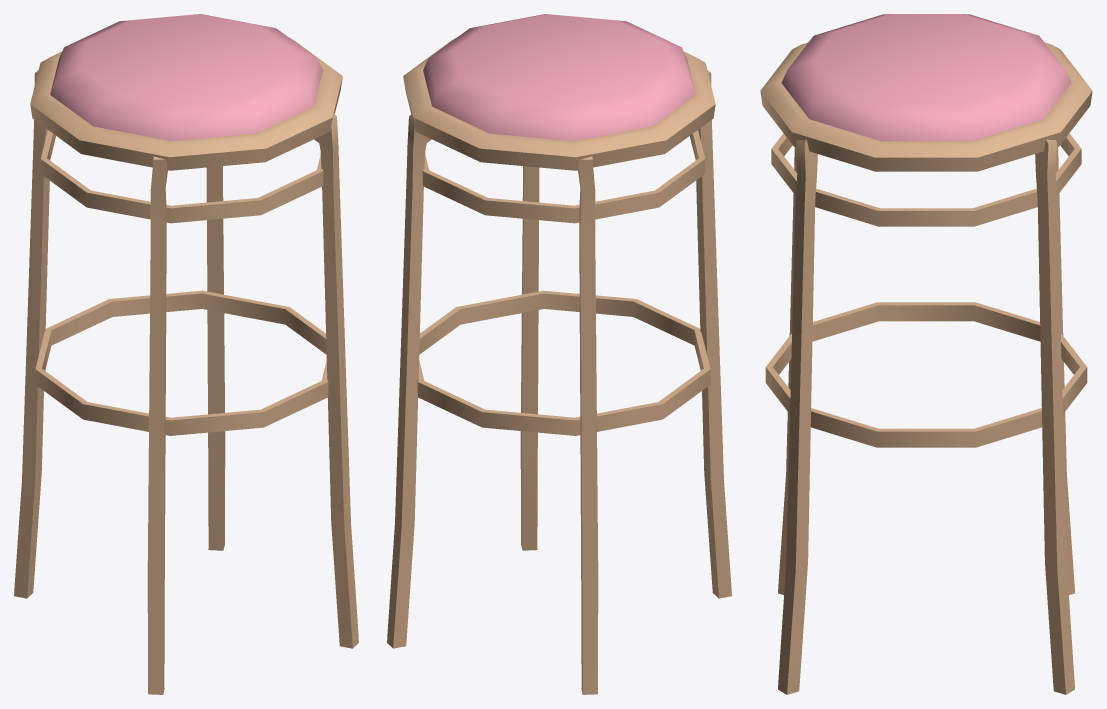
File: stool.glb
The picture shows the model from 3 angles, left to right: view 1: azimuth 30°, elevation 25°; view 2: azimuth 150°, elevation 25°; view 3: azimuth 270°, elevation 25°; orthographic projection. The views are drawn at different scales.
Visible parts, largest first — view 1: Stool; view 2: Stool; view 3: Stool.
Boxes of the visible parts, bbox=[...] form: Stool: bbox=[14, 14, 358, 694]; Stool: bbox=[387, 14, 731, 694]; Stool: bbox=[760, 14, 1092, 694].
Bounding box in the file's own units: 0.6753 × 1.37 × 0.71.
